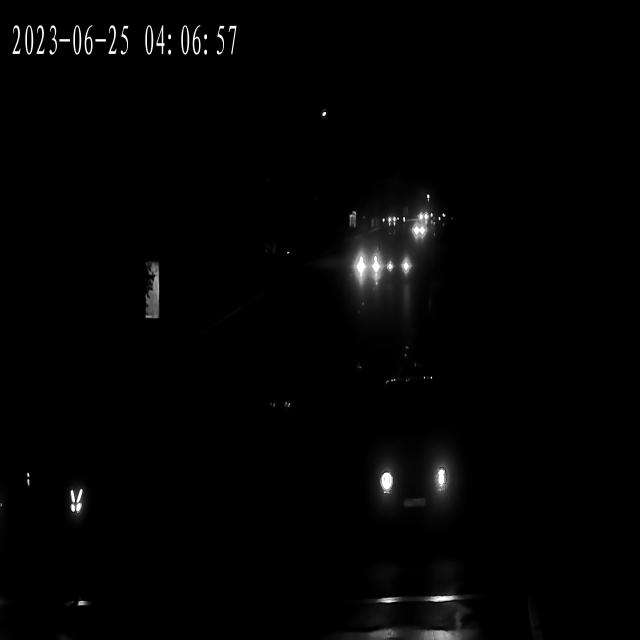Car: (359, 415, 458, 521), (375, 249, 413, 282), (351, 246, 383, 283), (409, 222, 428, 238), (410, 225, 428, 241), (416, 210, 432, 223), (382, 214, 397, 226)
